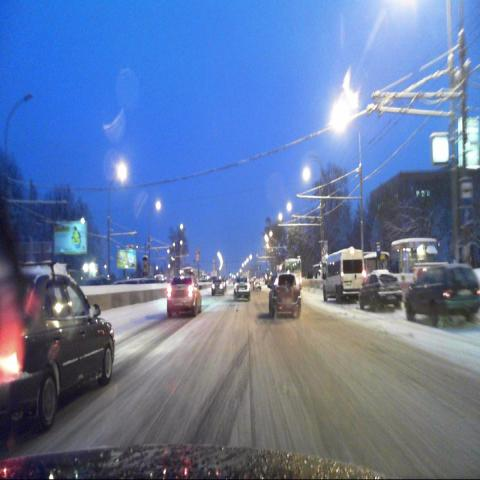5_16: (459, 176, 472, 202)
6_6: (459, 202, 473, 228)
